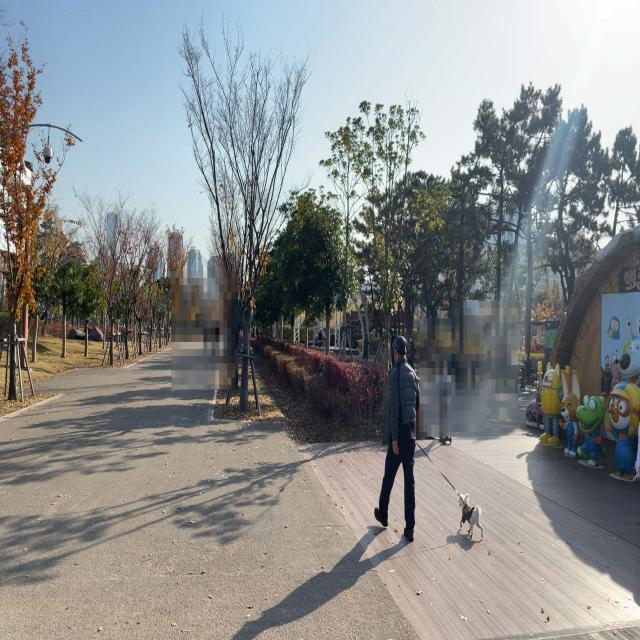Leashed_Dog: (408, 436, 484, 540)
